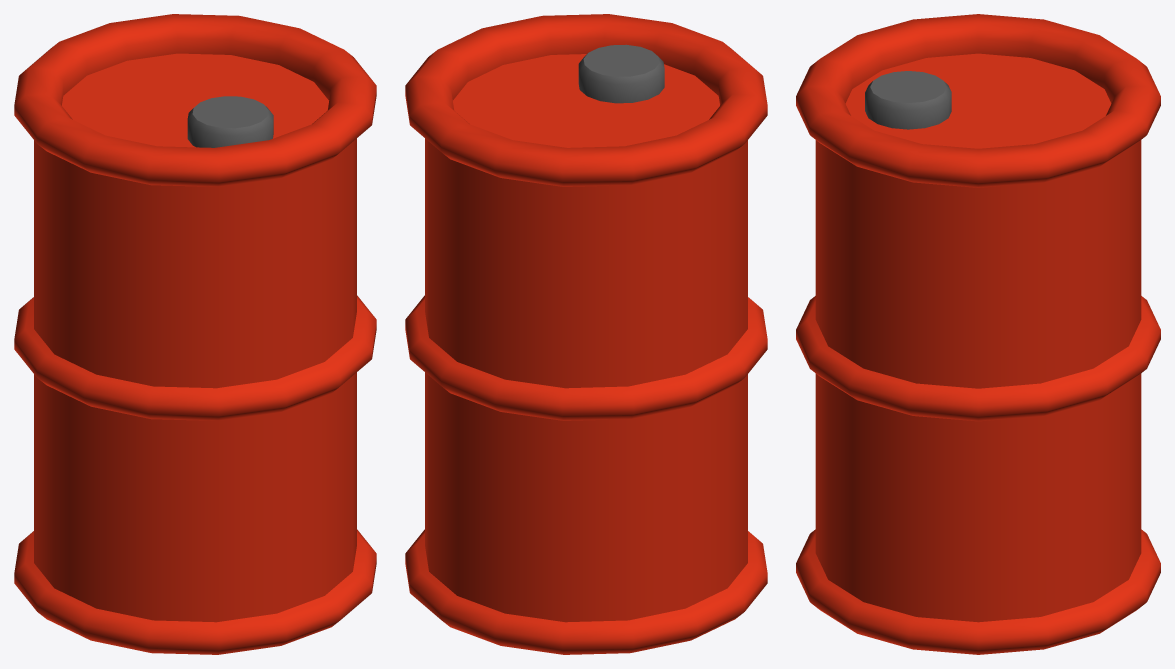
File: SRA_Oil_Barrel_Single_Red.glb
3 views of the same model, side by side, from view 1: azimuth 30°, elevation 25°; view 2: azimuth 150°, elevation 25°; view 3: azimuth 270°, elevation 25° (orthographic).
Visible parts, largest first — view 1: Oil_Barrel_Single_Red; view 2: Oil_Barrel_Single_Red; view 3: Oil_Barrel_Single_Red.
Boxes of the visible parts, left/top/right/bottom form: Oil_Barrel_Single_Red: left=14, top=14, right=376, bottom=654; Oil_Barrel_Single_Red: left=405, top=14, right=767, bottom=654; Oil_Barrel_Single_Red: left=796, top=14, right=1160, bottom=654.
Bounding box in the file's own units: 0.4 × 0.5999 × 0.4.
1 material, 1 textured.
